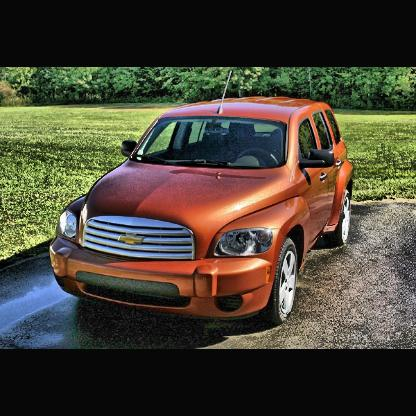Chevrolet HHR SS 2010: (46, 96, 356, 327)
